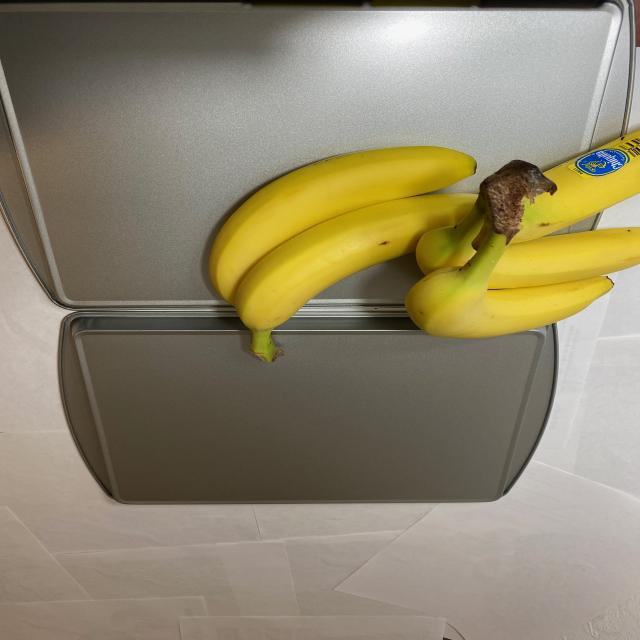banana: (205, 109, 636, 368)
